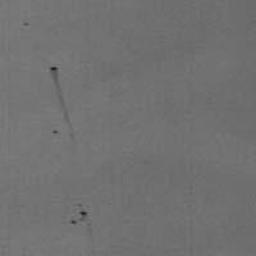Inclusion: (47, 64, 73, 129), (68, 201, 88, 225), (20, 20, 32, 27), (51, 128, 59, 134)
